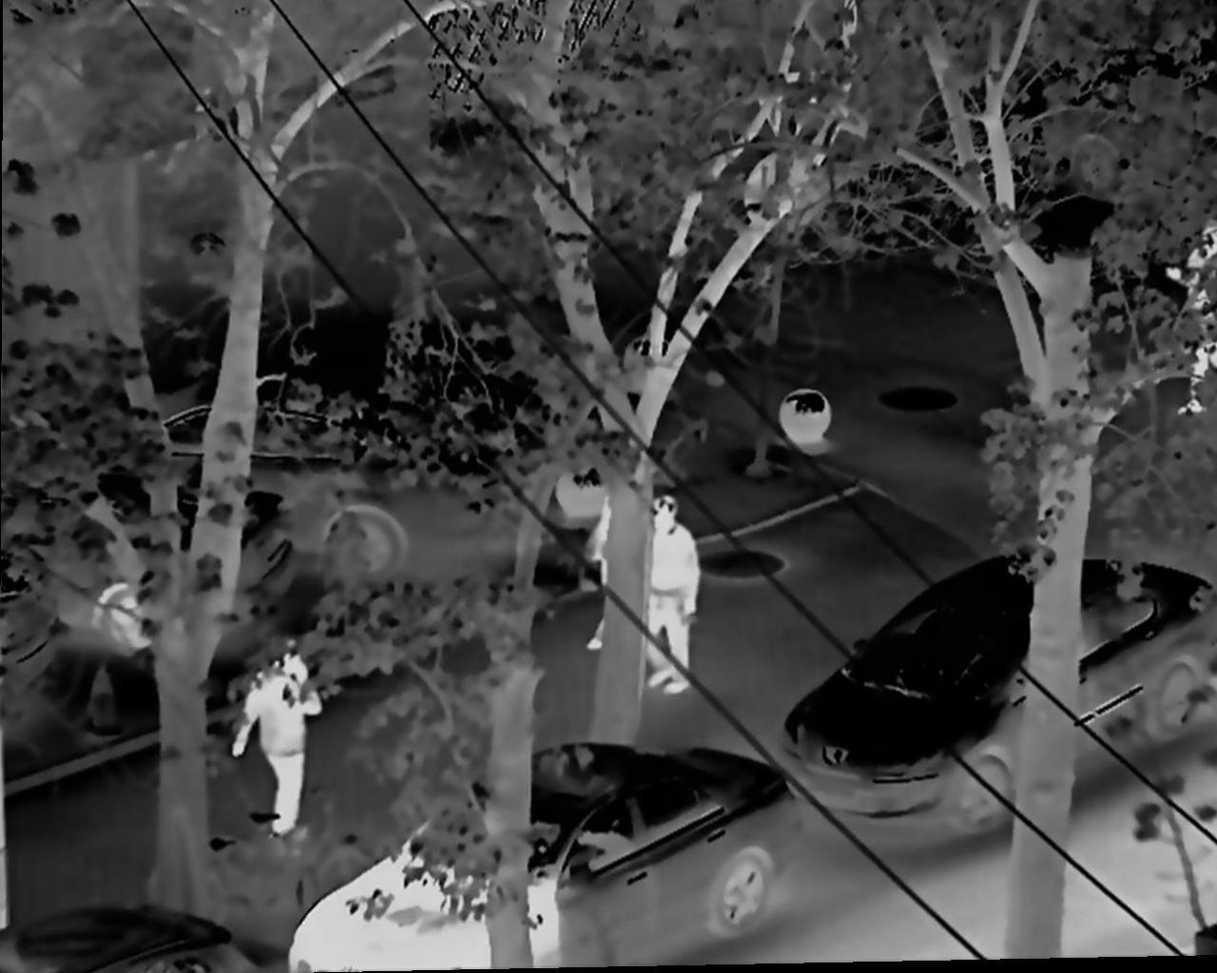person: (237, 635, 321, 841), (645, 491, 701, 692), (588, 489, 646, 653)
